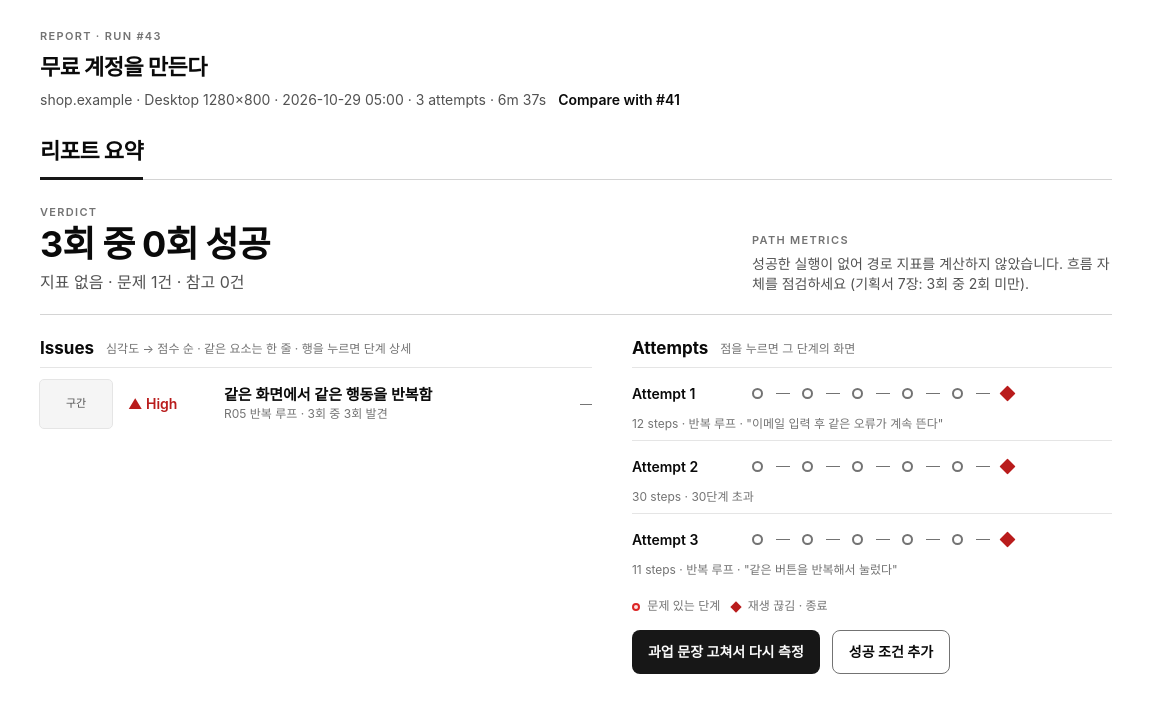
Test: 전부 실패: 요소 없는 문제를 누르면 단계 상세에 Attempts 띠
The image size is (1152, 720).
Click the text "같은 화면에서 같은 행동을 반복함" at (328, 403), box [224,384,432,421]
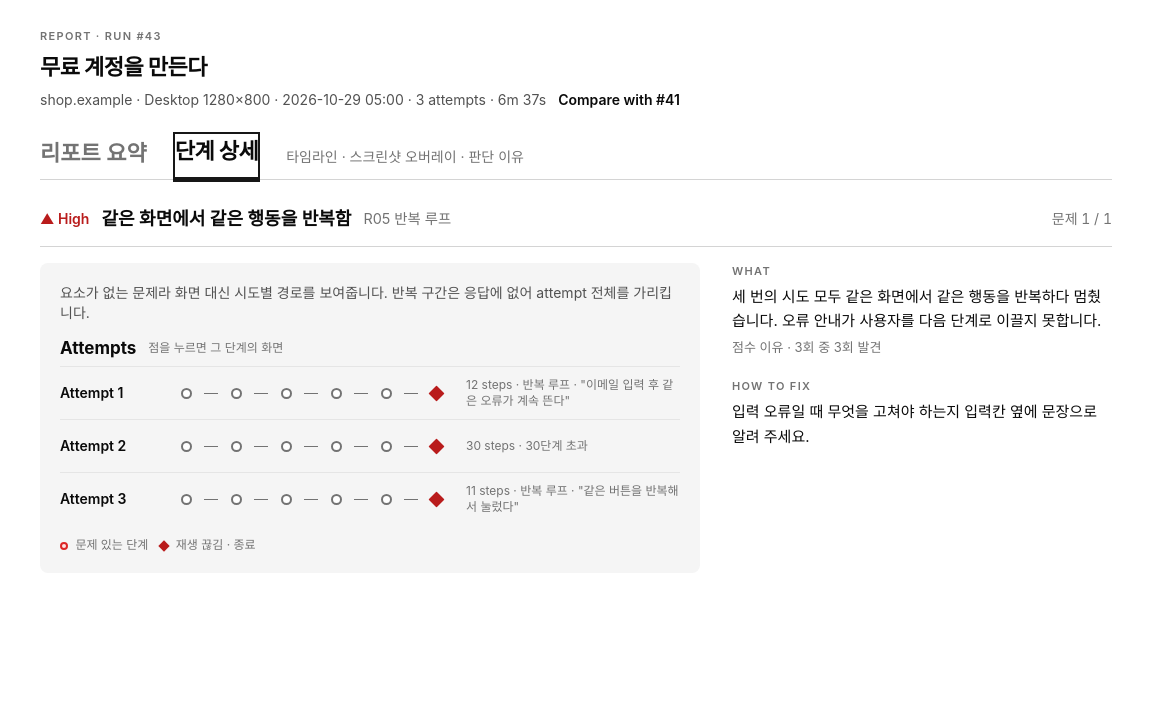
Now the heading "단계 상세" is shown, box [175,134,258,180]
